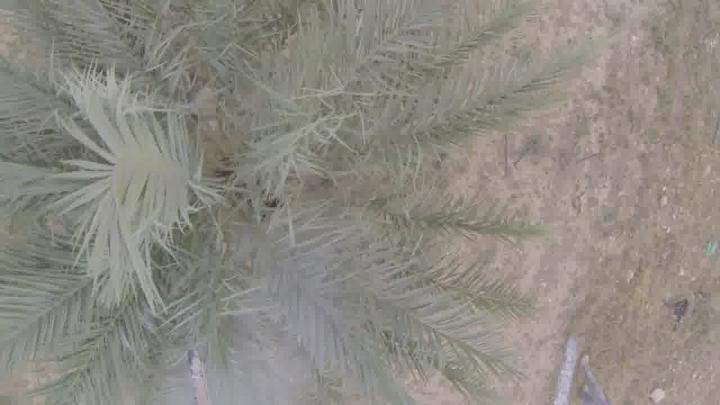Date-Palm-Crown: (37, 0, 431, 404)
